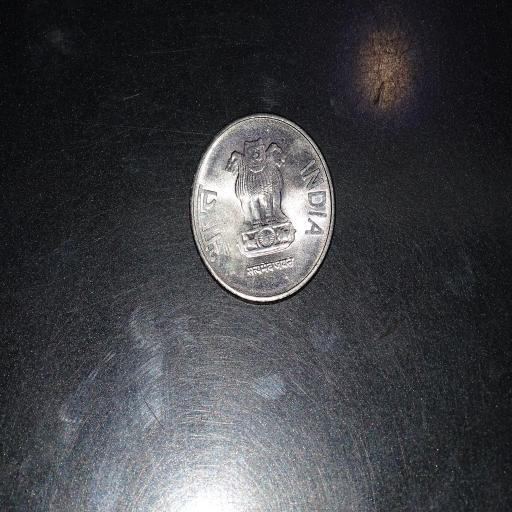rupee2: (188, 118, 335, 303)
